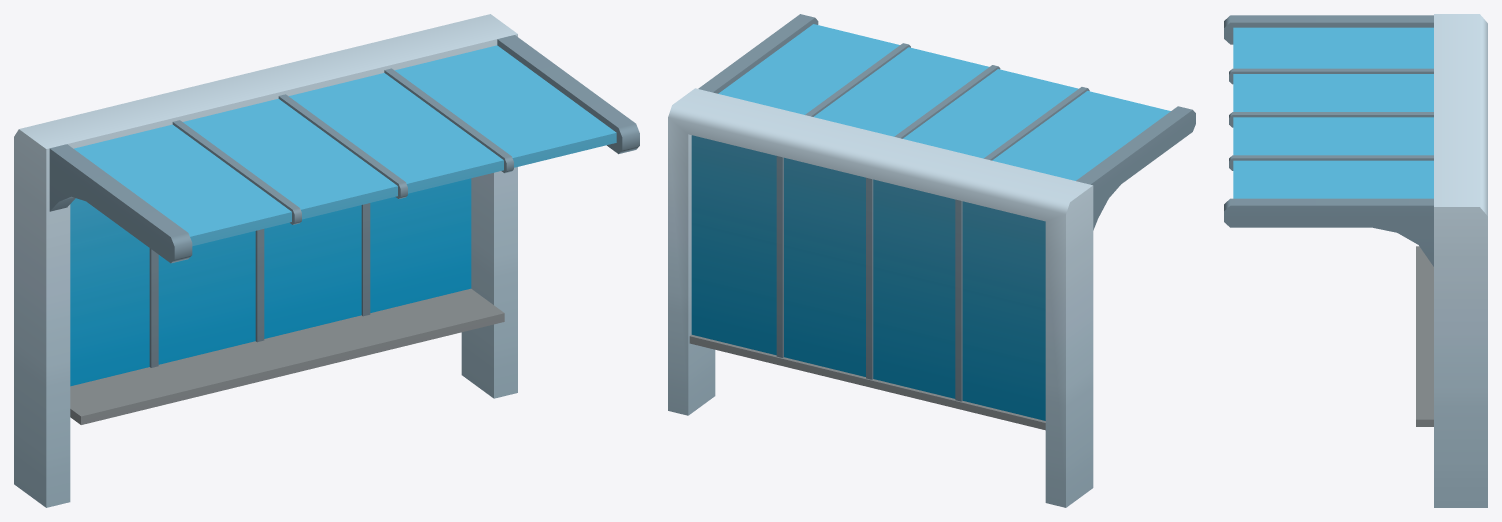
The model's file is city2-bus-stop-01.glb.
The picture shows the model from 3 angles, left to right: view 1: azimuth 30°, elevation 25°; view 2: azimuth 150°, elevation 25°; view 3: azimuth 270°, elevation 25°; orthographic projection. The views are drawn at different scales.
Parts seen in each view (by area): view 1: Bus_Stop_01; view 2: Bus_Stop_01; view 3: Bus_Stop_01.
Part boxes in pixels (x1,y1,x2,y2): Bus_Stop_01: (14, 14, 639, 507); Bus_Stop_01: (668, 14, 1195, 507); Bus_Stop_01: (1224, 14, 1487, 507).
Bounding box in the file's own units: 3.44 × 2.5 × 1.98.
Materials: 2 (2 with a texture image).
